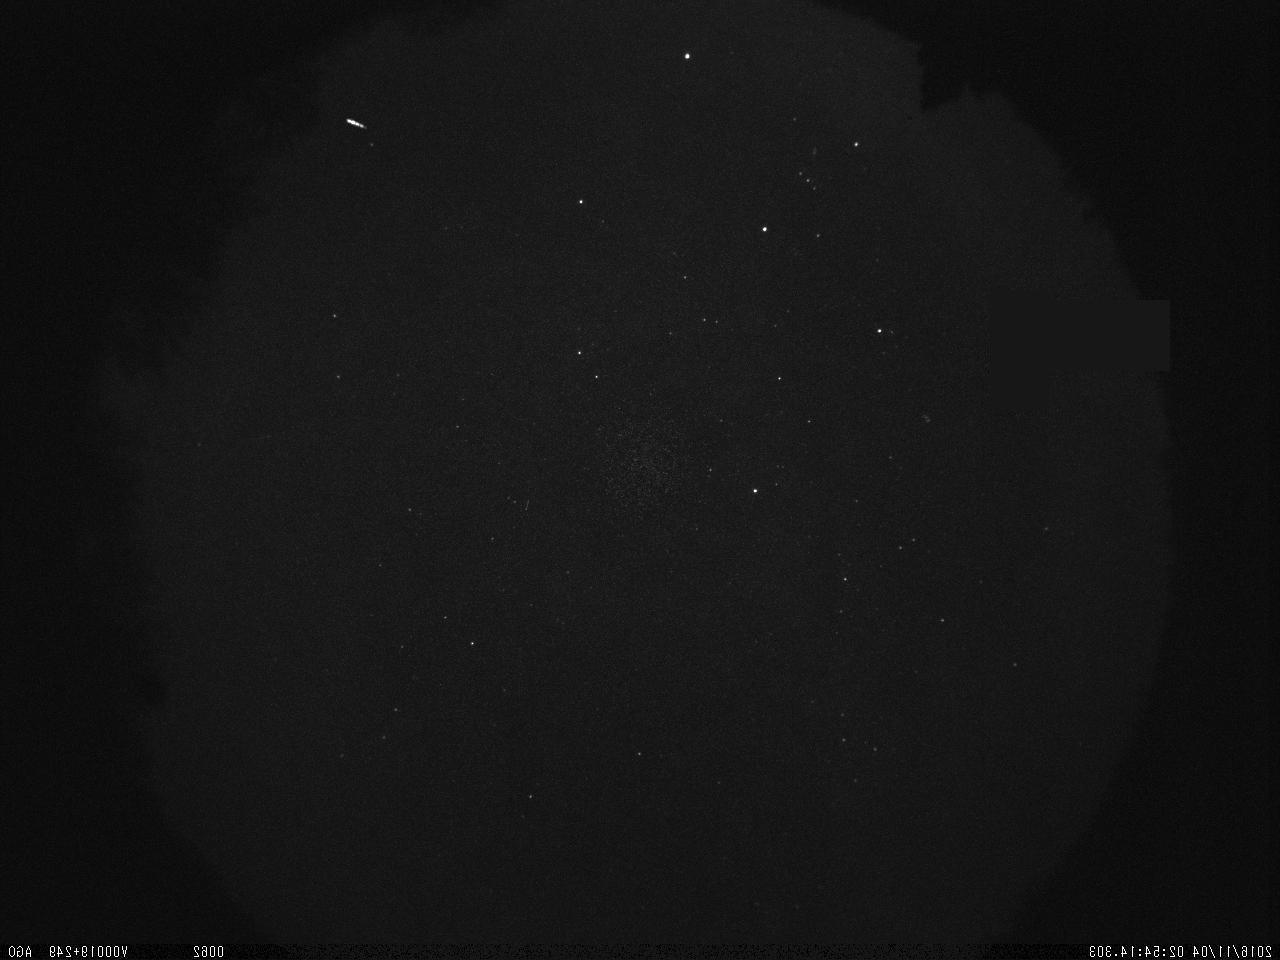meteor: (331, 96, 381, 144)
